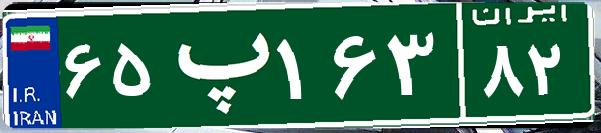1: (273, 28, 330, 110)
2: (525, 38, 570, 115)
3: (385, 28, 445, 110)
5: (110, 28, 158, 105)
6: (330, 28, 385, 110), (57, 26, 110, 107)
8: (475, 38, 525, 113)
پ: (158, 15, 273, 115)
